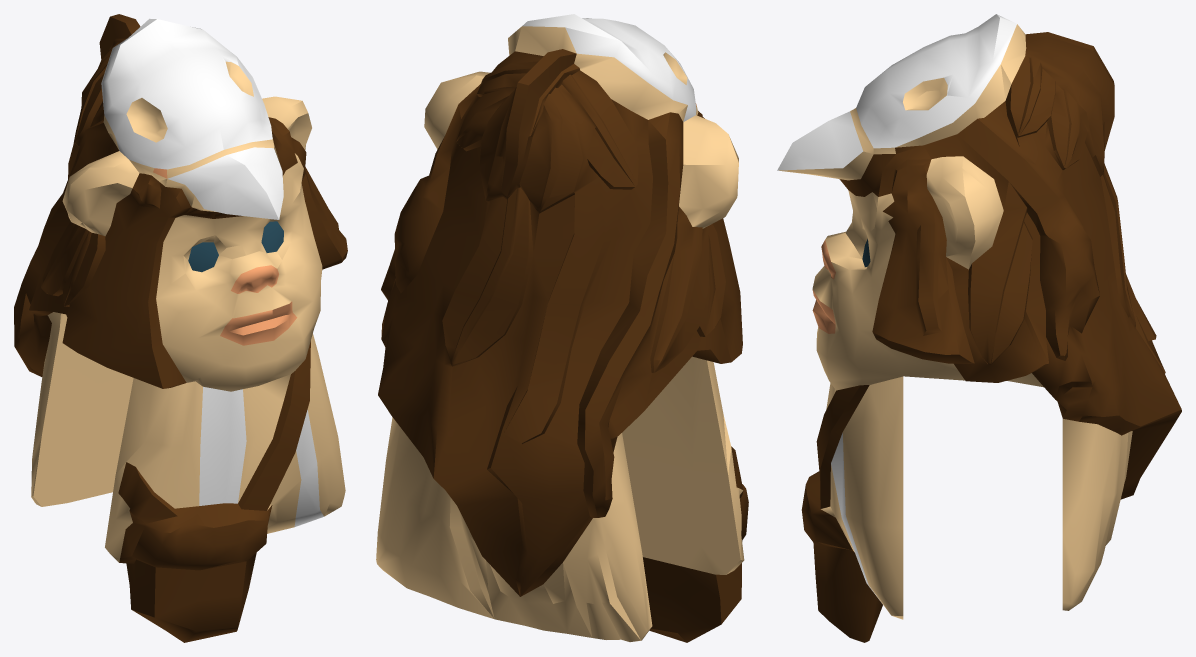
File: Logray Head.gltf
3 views of the same model, side by side, from view 1: azimuth 30°, elevation 25°; view 2: azimuth 150°, elevation 25°; view 3: azimuth 270°, elevation 25° (orthographic). The views are drawn at different scales.
Visible parts, largest first — view 1: Object.001; view 2: Object.001; view 3: Object.001.
Part boxes in pixels (bbox=[...]): Object.001: bbox=[14, 14, 347, 642]; Object.001: bbox=[376, 14, 748, 642]; Object.001: bbox=[777, 14, 1181, 642].
Size of the model in its own units: 0.8539 by 1.71 by 1.02.
